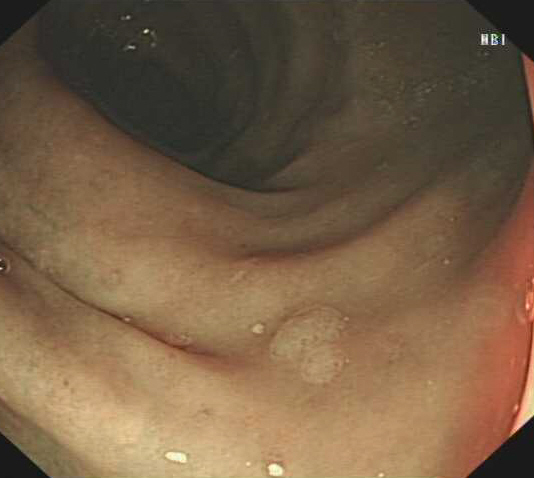others: (266, 303, 350, 387)
